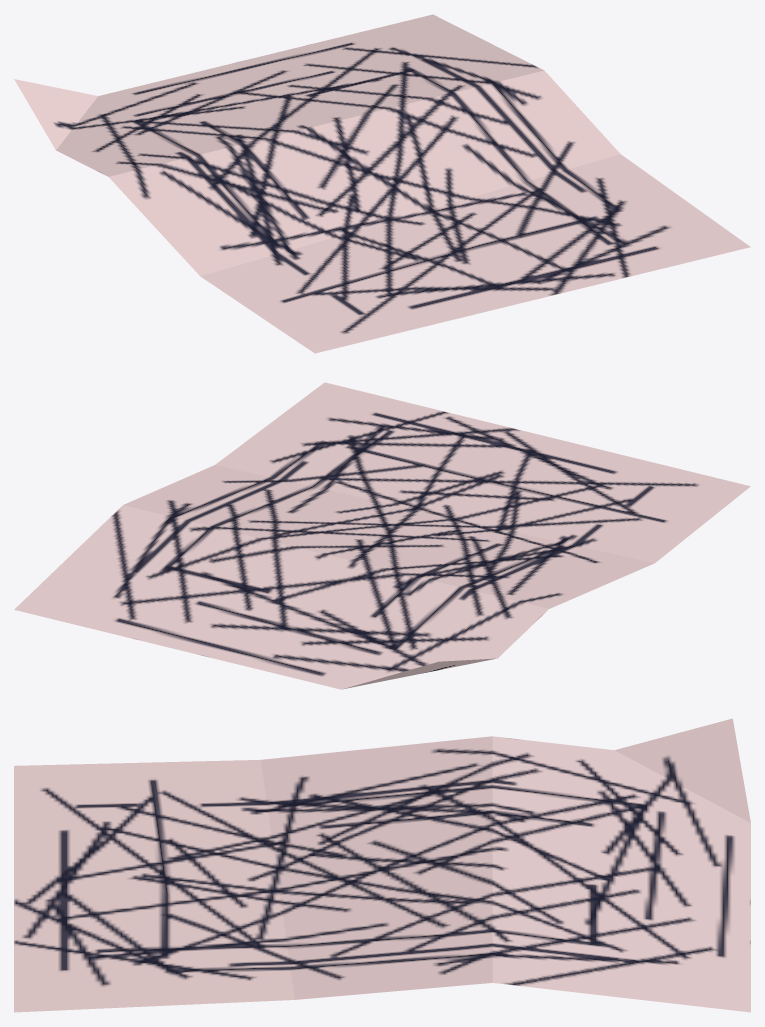
Rendered from c_list.glb.
3 views of the same model, one above another, from view 1: azimuth 30°, elevation 25°; view 2: azimuth 150°, elevation 25°; view 3: azimuth 270°, elevation 25° (orthographic). The views are drawn at different scales.
Visible parts, largest first — view 1: C_List; view 2: C_List; view 3: C_List.
Part boxes in pixels (bbox=[...]): C_List: bbox=[14, 14, 750, 353]; C_List: bbox=[14, 382, 750, 689]; C_List: bbox=[14, 718, 750, 1012].
Bounding box in the file's own units: 0.2792 × 0.0272 × 0.346.
1 material, 1 textured.
